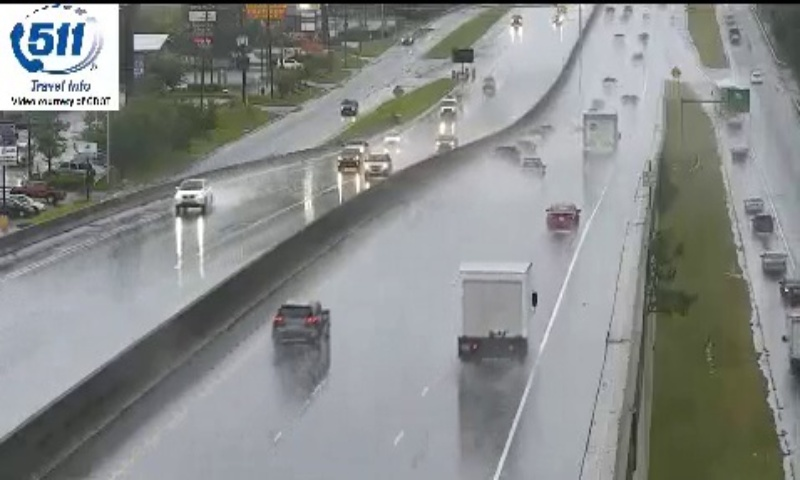car: (271, 300, 328, 342), (546, 203, 579, 232)
small-truck: (461, 262, 532, 360), (582, 112, 617, 158)
